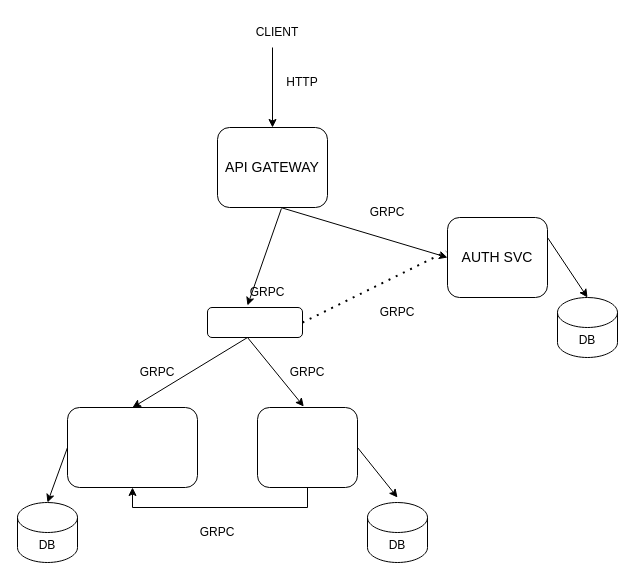
This 635x580 diagram has some shape labels left out. Each missing label, with the box of its shape:
ORDER SVC: (256, 406, 358, 488)
PRODUCT SVC: (66, 406, 198, 488)
PROTECTED: (206, 306, 302, 338)
